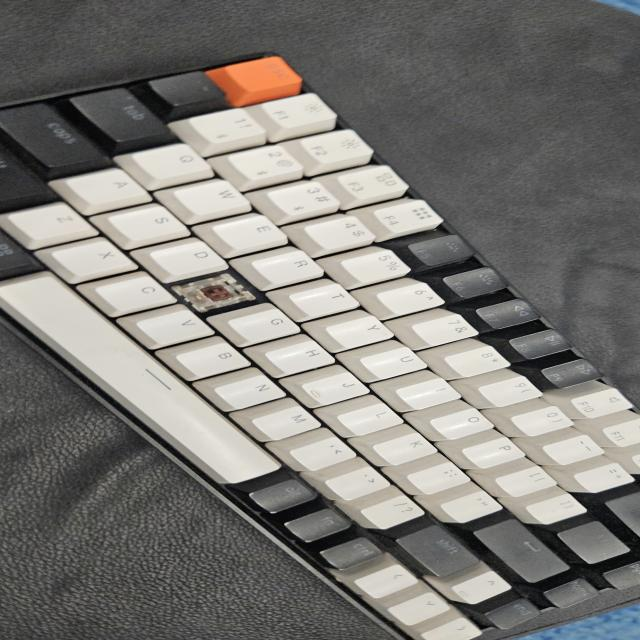C: (190, 280, 245, 306)
